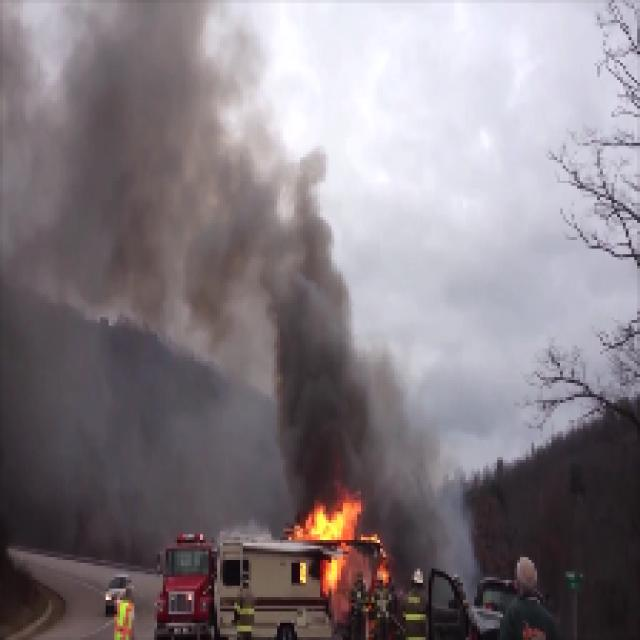fire: (303, 494, 361, 549)
smoke: (99, 82, 273, 294), (273, 284, 357, 488)
